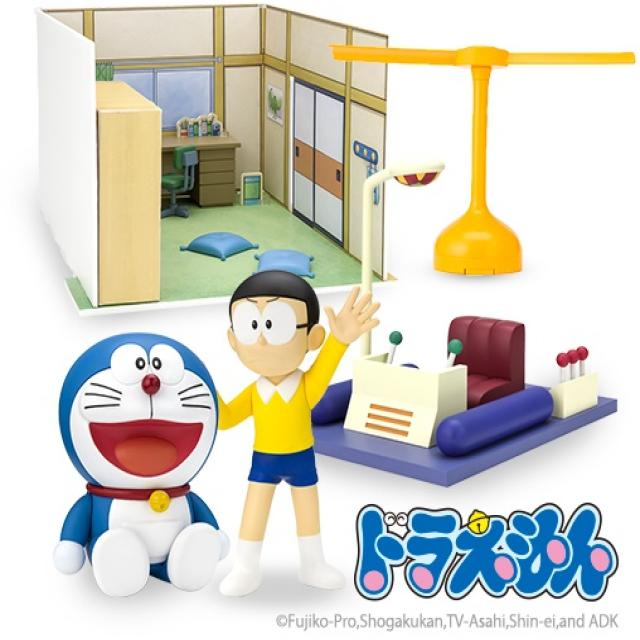doraemon: (55, 322, 227, 568)
nobita: (214, 254, 339, 430)
